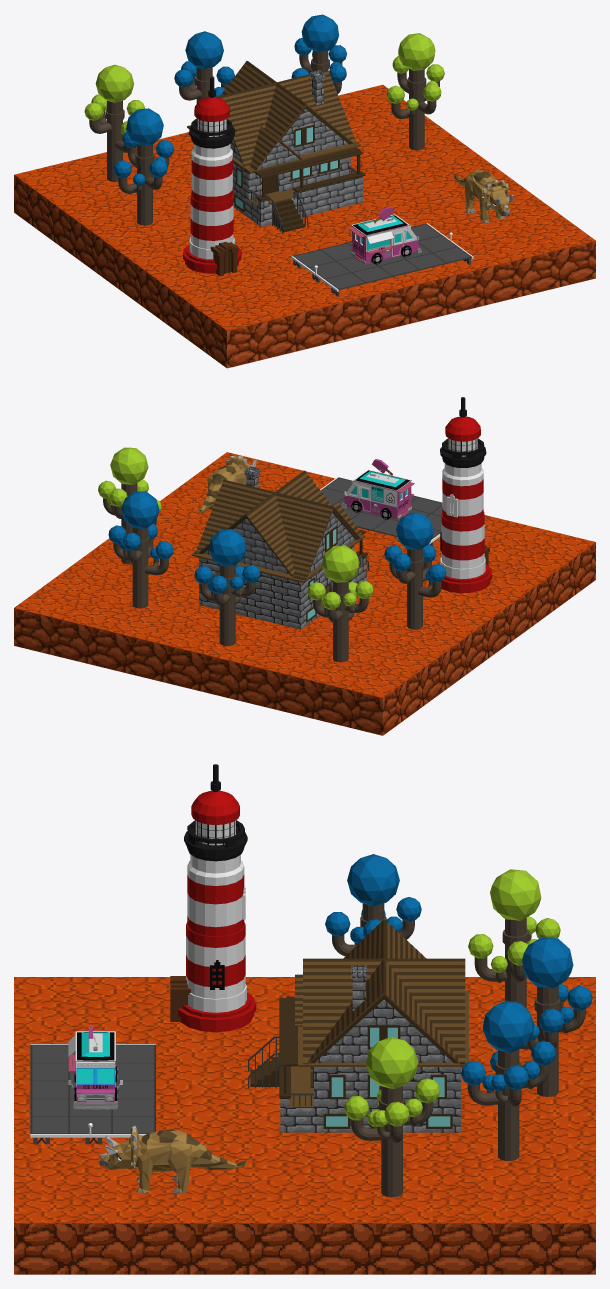
3 views of the same model, one above another, from view 1: azimuth 30°, elevation 25°; view 2: azimuth 150°, elevation 25°; view 3: azimuth 270°, elevation 25° (orthographic). The views are drawn at different scales.
Parts seen in each view (by area): view 1: Cube.001, Cube.586, OBJRANDOM_LIGHTHOUSE, VEHICLES_ICE_CREAM_TRUCK, ANIMAL_Triceratops; view 2: Cube.001, Cube.586, OBJRANDOM_LIGHTHOUSE, VEHICLES_ICE_CREAM_TRUCK, ANIMAL_Triceratops; view 3: Cube.001, Cube.586, OBJRANDOM_LIGHTHOUSE, ANIMAL_Triceratops, VEHICLES_ICE_CREAM_TRUCK.
Boxes of the visible parts, bbox=[...] form: Cube.001: bbox=[14, 14, 595, 368]; Cube.586: bbox=[187, 61, 365, 233]; OBJRANDOM_LIGHTHOUSE: bbox=[183, 77, 241, 276]; VEHICLES_ICE_CREAM_TRUCK: bbox=[348, 206, 421, 264]; ANIMAL_Triceratops: bbox=[454, 169, 513, 223]; Cube.001: bbox=[14, 447, 595, 735]; Cube.586: bbox=[191, 466, 368, 629]; OBJRANDOM_LIGHTHOUSE: bbox=[440, 397, 492, 593]; VEHICLES_ICE_CREAM_TRUCK: bbox=[341, 459, 414, 519]; ANIMAL_Triceratops: bbox=[197, 455, 256, 512]; Cube.001: bbox=[14, 854, 595, 1274]; Cube.586: bbox=[248, 920, 468, 1132]; OBJRANDOM_LIGHTHOUSE: bbox=[170, 764, 256, 1032]; ANIMAL_Triceratops: bbox=[98, 1126, 246, 1194]; VEHICLES_ICE_CREAM_TRUCK: bbox=[68, 1025, 122, 1109].
Size of the model in its own units: 4000 by 2378 by 4000.
Materials: 43 (5 with a texture image).
